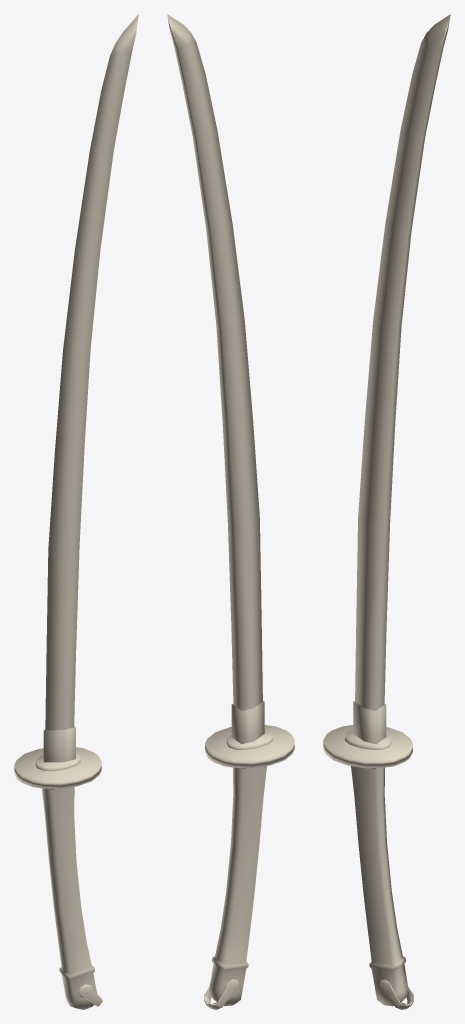
Rendered from 195-masterlesssword.glb.
3 views of the same model, side by side, from view 1: azimuth 30°, elevation 25°; view 2: azimuth 210°, elevation 25°; view 3: azimuth 330°, elevation 25° (orthographic). The views are drawn at different scales.
Bounding box in the file's own units: 0.4679 × 3.69 × 0.2676.
